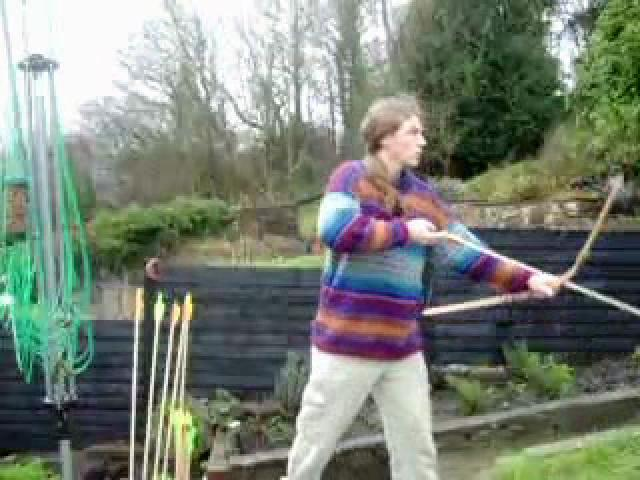I: (298, 89, 568, 480)
